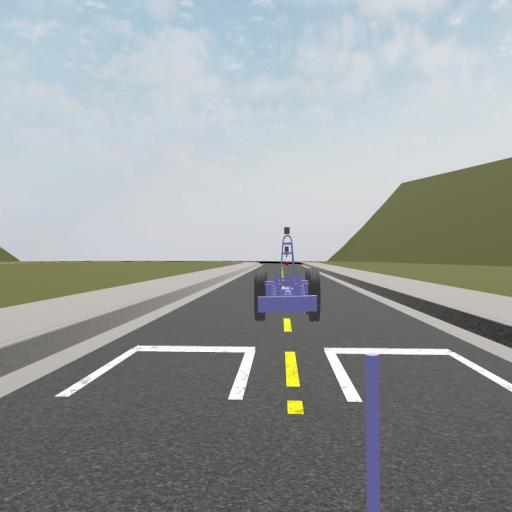ERP-42: (253, 227, 321, 322)
